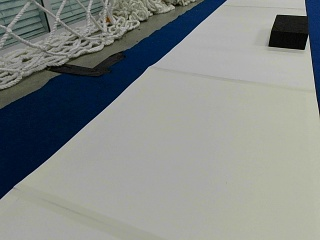block: (269, 14, 307, 49)
